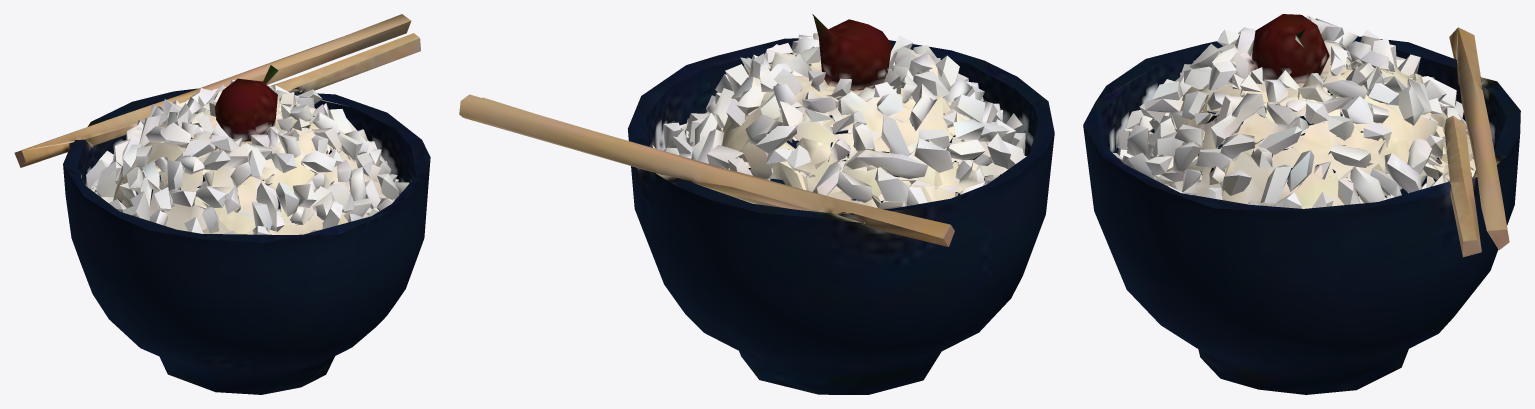
File: arroz.glb
3 views of the same model, side by side, from view 1: azimuth 30°, elevation 25°; view 2: azimuth 150°, elevation 25°; view 3: azimuth 270°, elevation 25° (orthographic). The views are drawn at different scales.
Visible parts, largest first — view 1: objeto; view 2: objeto; view 3: objeto.
Part boxes in pixels (bbox=[...]): objeto: bbox=[14, 14, 430, 394]; objeto: bbox=[459, 14, 1054, 394]; objeto: bbox=[1083, 14, 1520, 394].
Size of the model in its own units: 1.05 by 0.7184 by 0.8404.
1 material, 1 textured.
